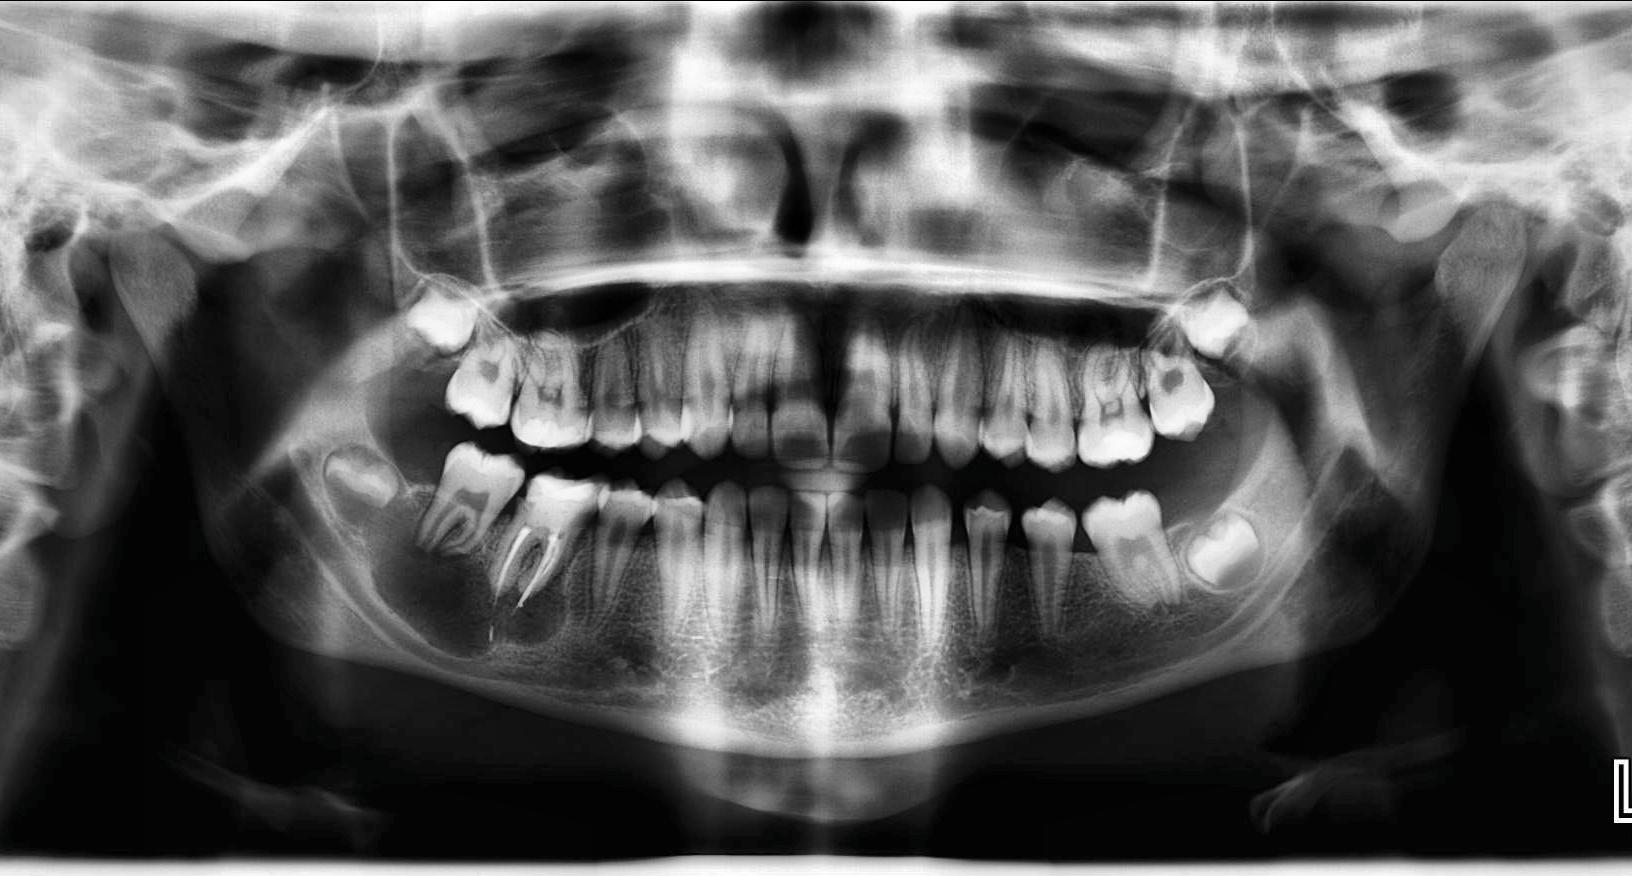radikuler: (370, 491, 571, 661)
